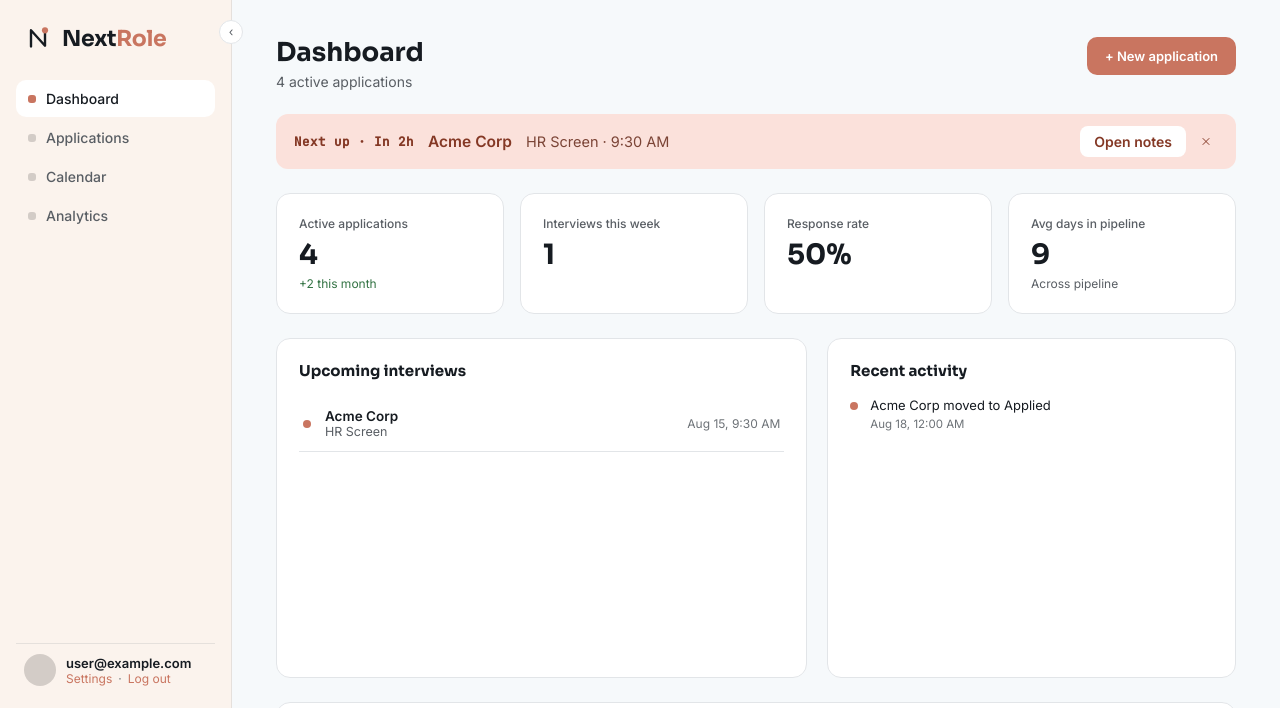
Scenario: DashboardPage › snoozes the reminder banner for the rest of the day and persists it
This screenshot has width=1280, height=708.
Expected: the text "Next up" is shown, [294,133,350,150]
Step 1. Click the button named "Dismiss" → [1206, 142], box [1194,130,1218,154]
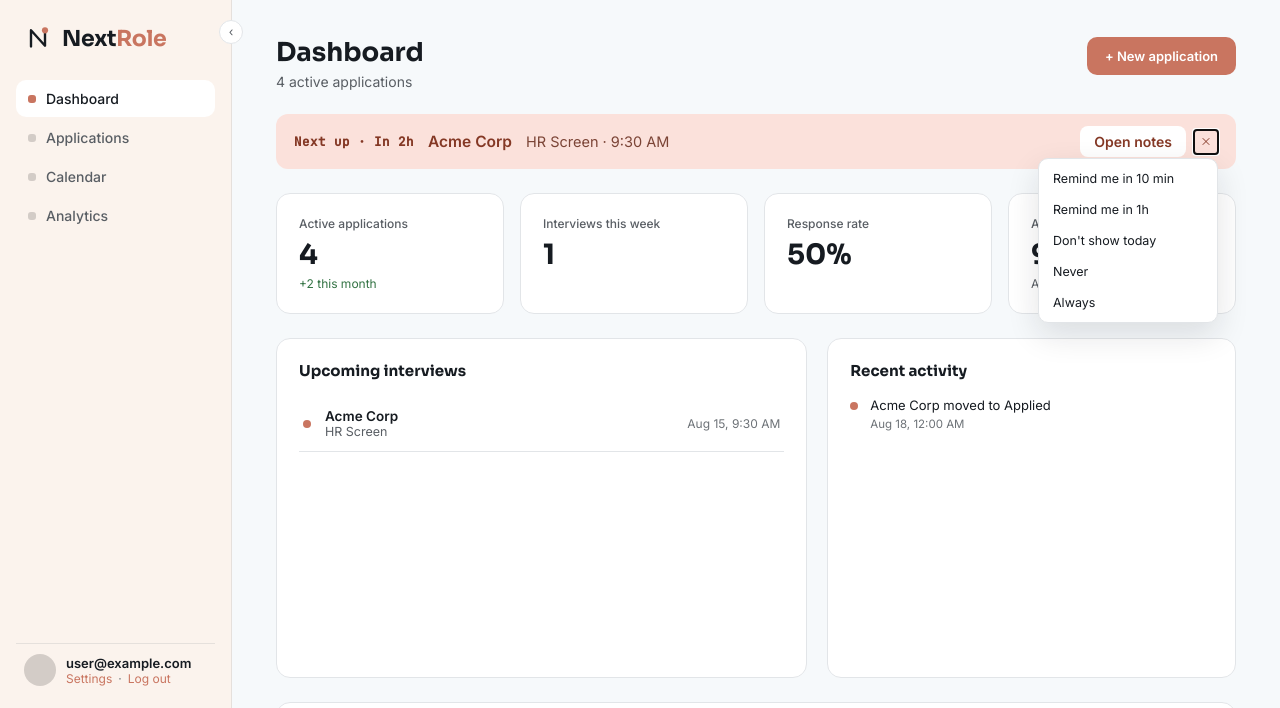
Step 2. Click the menu item "Don't show today" → [1105, 240], box [1053,232,1156,248]
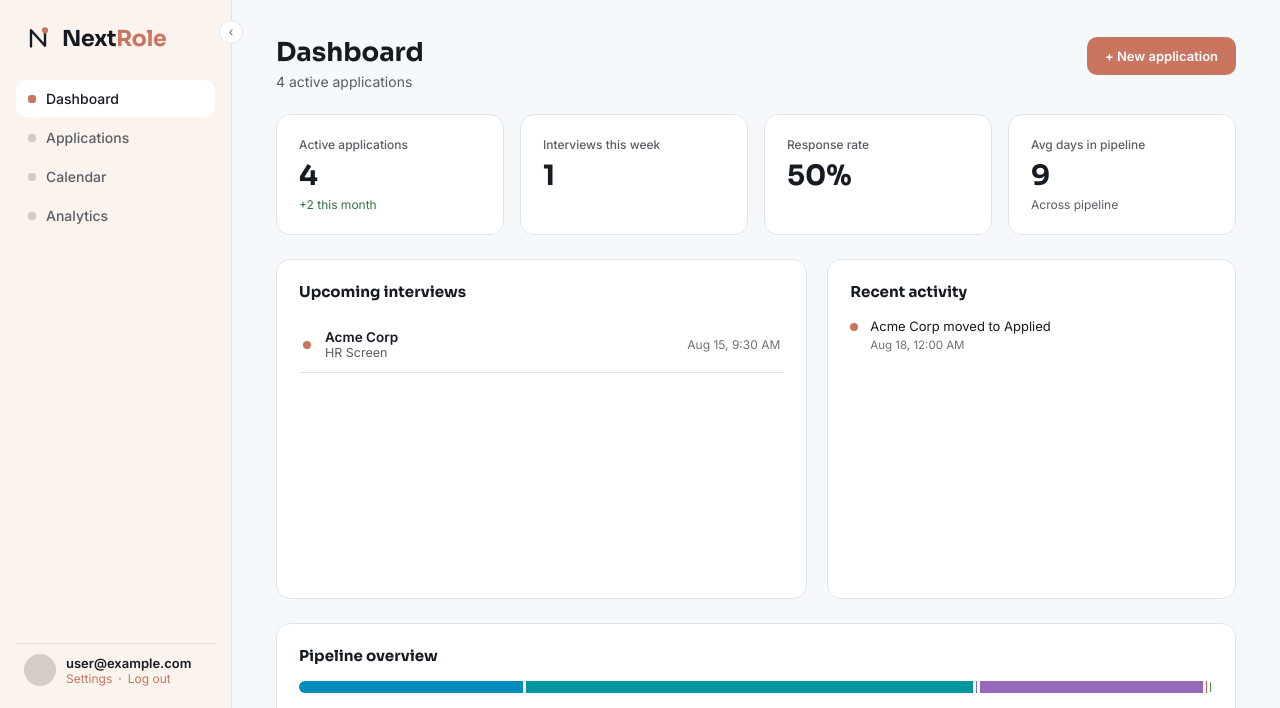
Expected: the text "Next up" is gone
